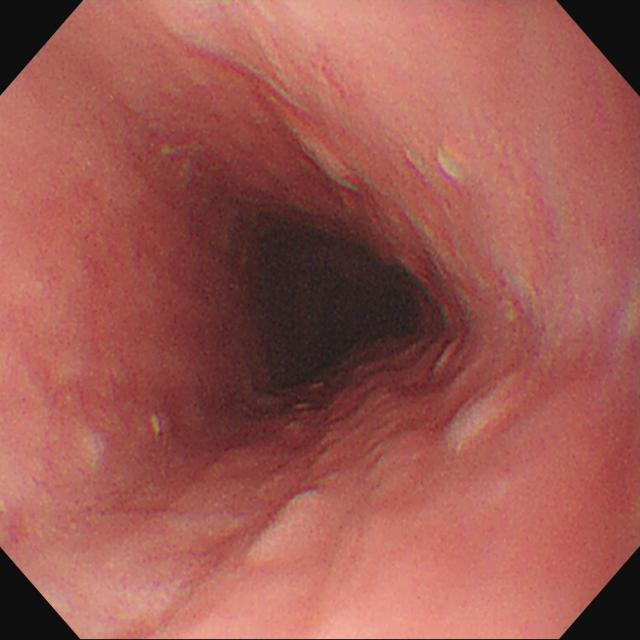E: (232, 212, 437, 407)
